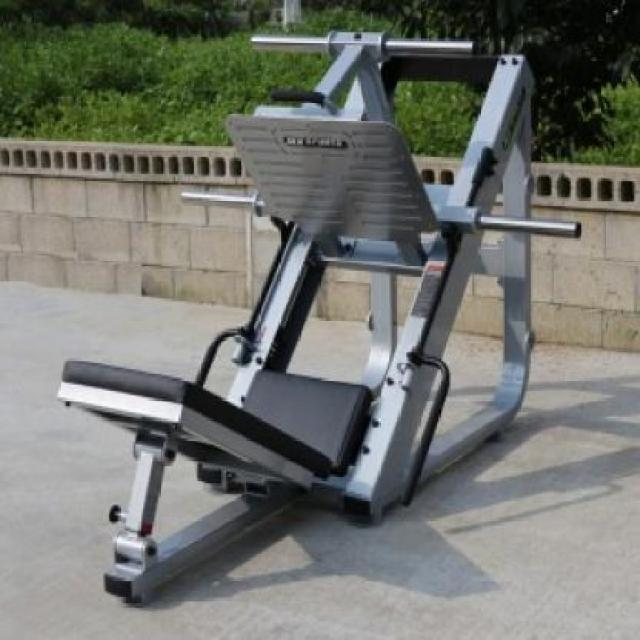leg press: (59, 27, 586, 610)
